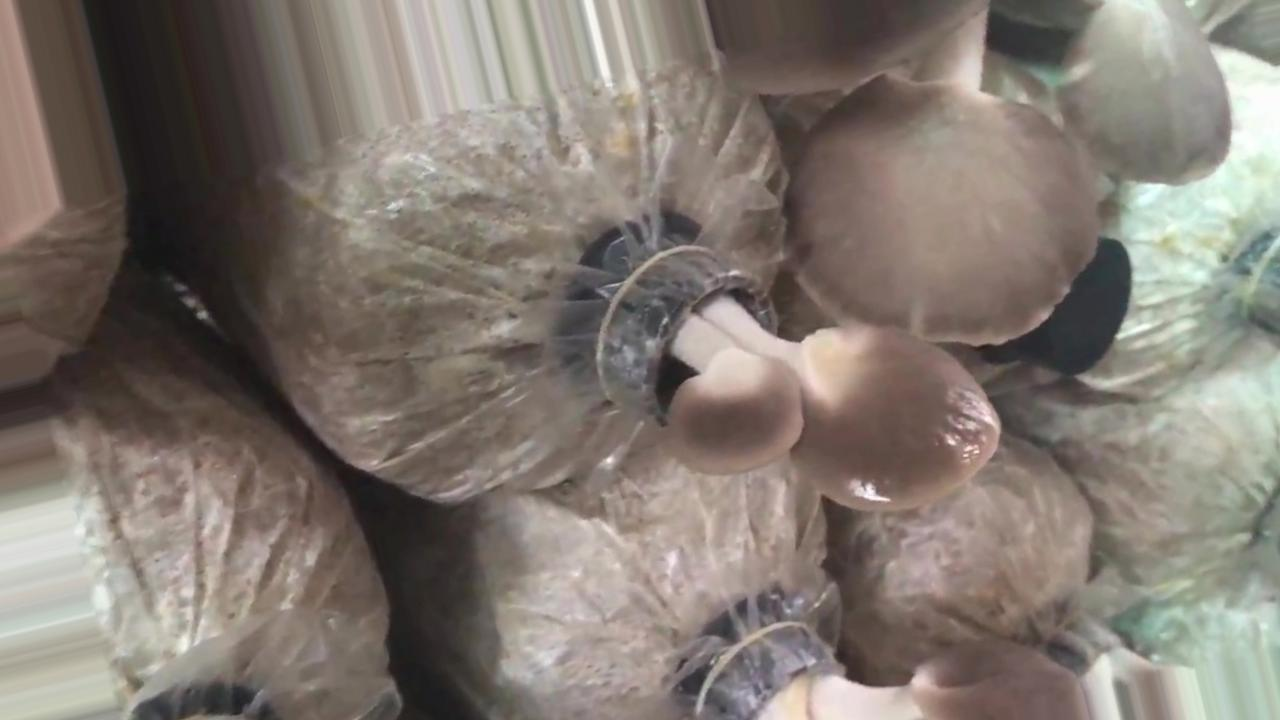nam: (724, 1, 1225, 350), (591, 235, 1005, 517)
